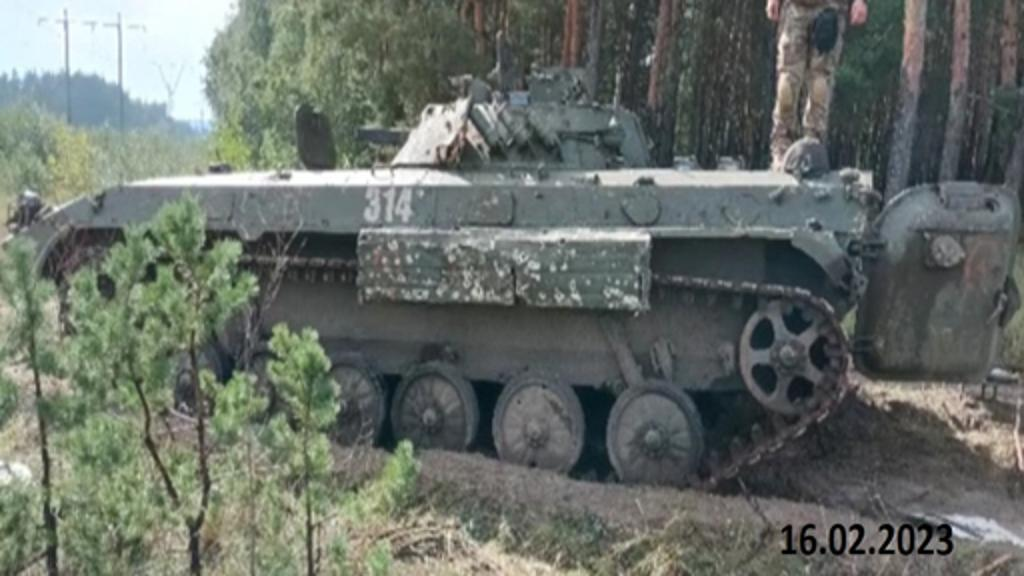APC-IFV: (4, 68, 1004, 502)
